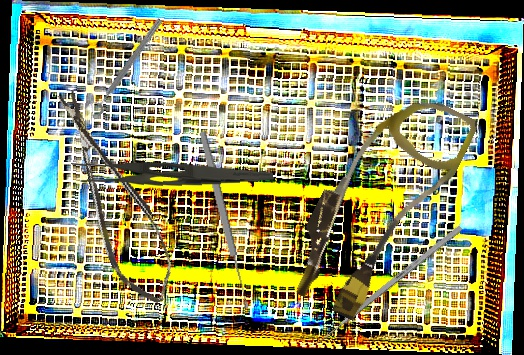Cannula: (277, 74, 481, 333)
Dressing Forceps: (71, 148, 274, 193)
Fixation Ring: (81, 12, 166, 121)
Micro Scissor: (45, 79, 184, 314)
Pusher: (310, 224, 463, 351)
Surgical Spoon: (197, 130, 252, 310)
